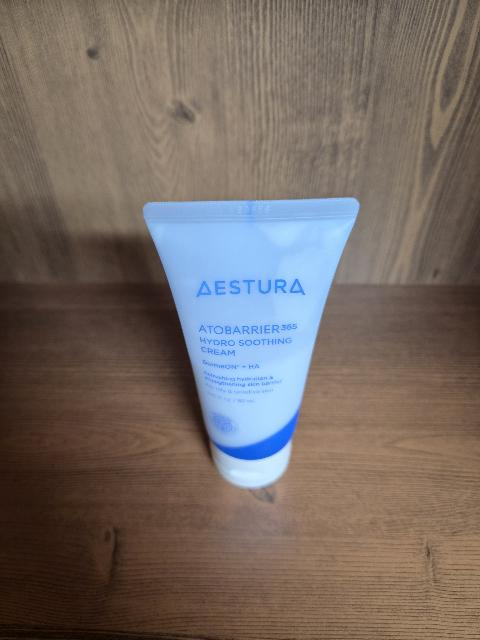handcream: (143, 198, 360, 488)
